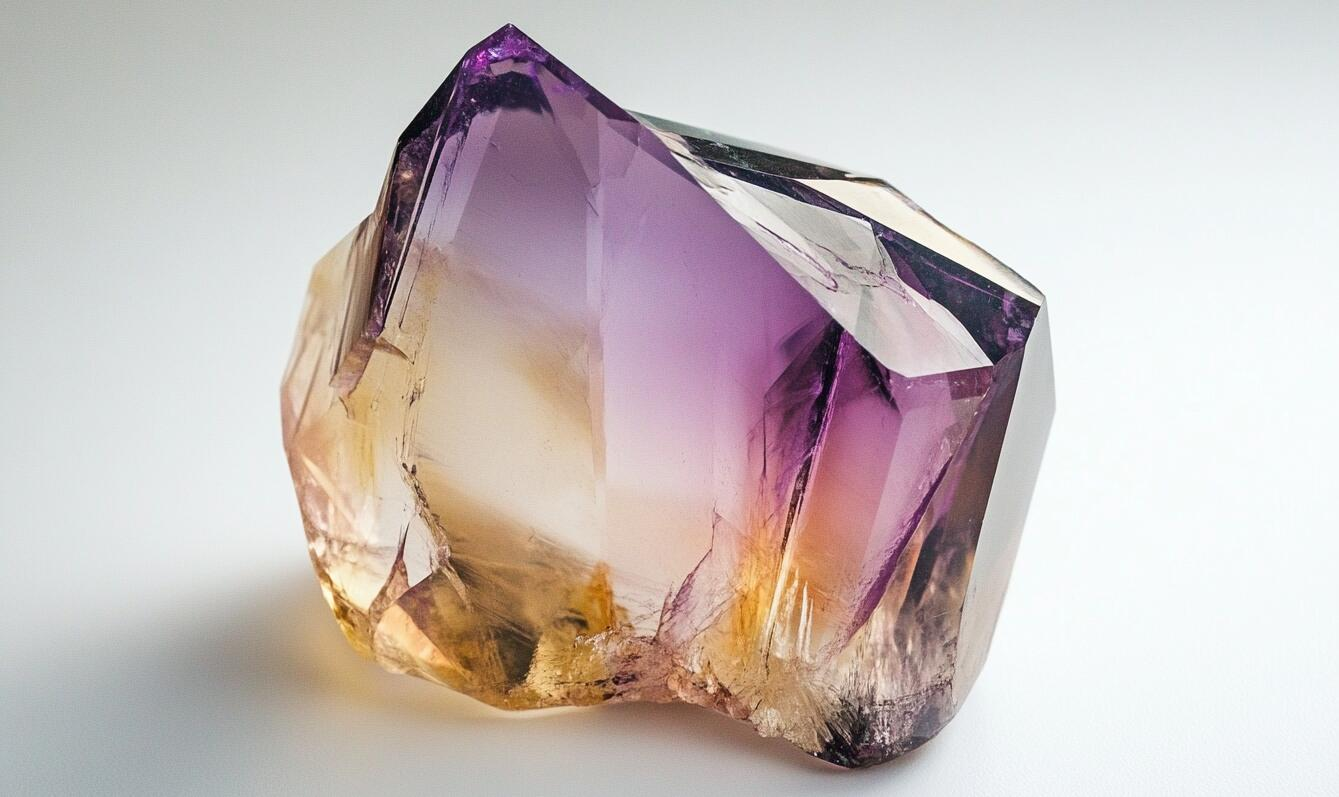Amethyst: (274, 20, 1060, 770)
